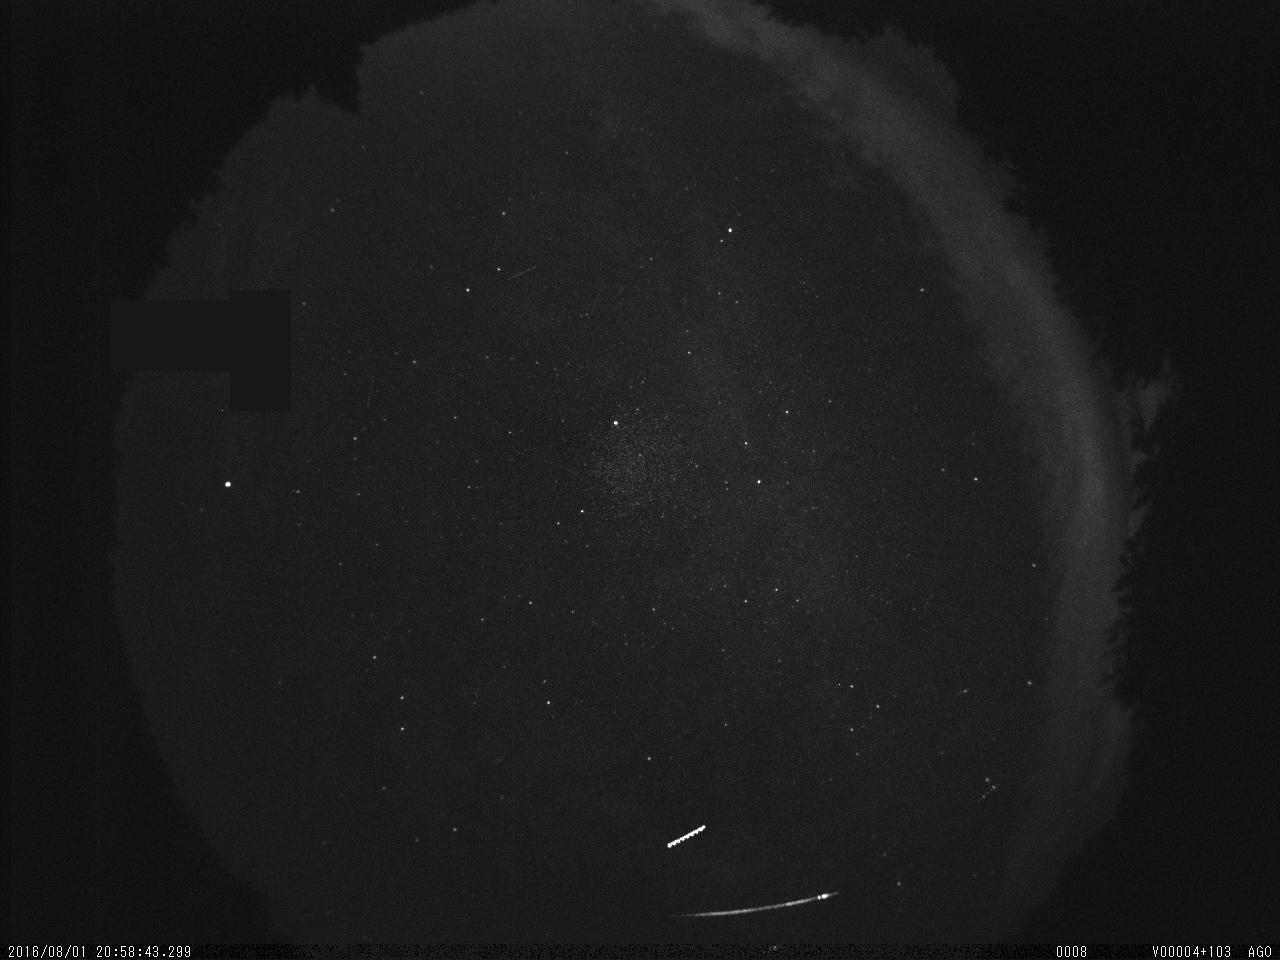meteor: (669, 882, 850, 931)
satelite: (659, 814, 713, 856)
